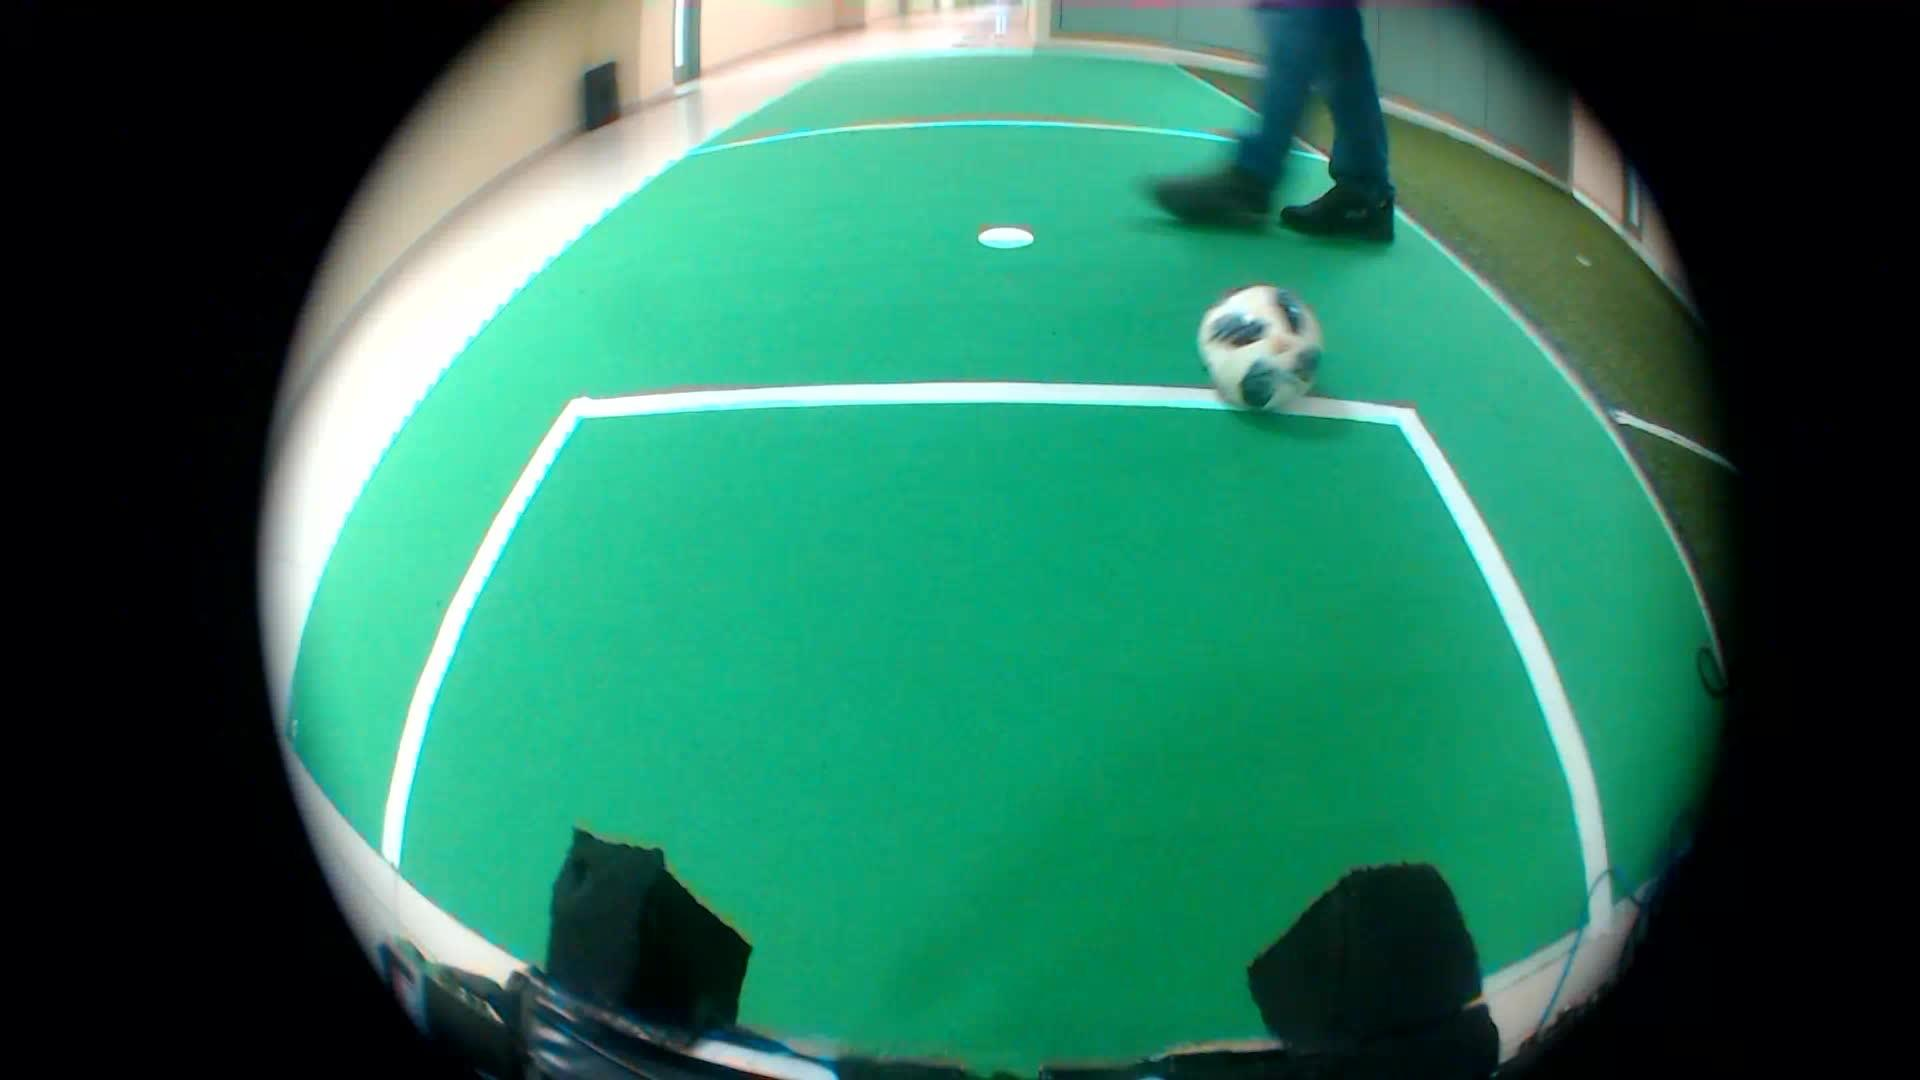ball: (1183, 272, 1332, 436)
